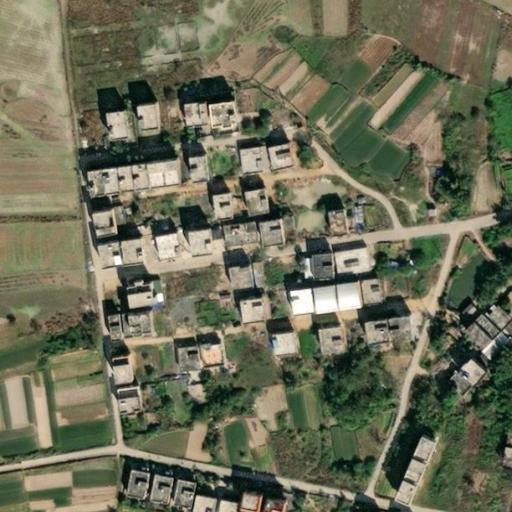building: (456, 321, 491, 355), (327, 249, 362, 277), (218, 221, 253, 248), (448, 357, 479, 387), (142, 158, 173, 187), (476, 303, 505, 332), (207, 102, 236, 130), (232, 145, 261, 173), (263, 141, 291, 169), (310, 285, 338, 313), (147, 229, 173, 259), (118, 276, 146, 303), (176, 101, 204, 127), (282, 287, 308, 315), (91, 237, 117, 264), (191, 342, 217, 369), (110, 384, 134, 413), (166, 477, 189, 507), (466, 312, 492, 338), (112, 233, 137, 260), (180, 225, 205, 252), (310, 325, 335, 352), (334, 282, 359, 309), (207, 190, 228, 221), (142, 472, 165, 500), (104, 108, 126, 137), (238, 187, 262, 213), (254, 218, 278, 244), (488, 290, 512, 316), (115, 467, 137, 495), (360, 319, 384, 344), (381, 316, 405, 341), (439, 372, 464, 396), (171, 345, 194, 371), (308, 252, 330, 279), (87, 209, 111, 233), (221, 263, 245, 287), (246, 254, 264, 286), (491, 336, 512, 363), (234, 294, 258, 317), (125, 162, 145, 189), (184, 153, 204, 180), (355, 279, 375, 306), (96, 166, 115, 194), (132, 101, 152, 127), (265, 331, 287, 354), (111, 164, 129, 191), (122, 310, 144, 332), (105, 353, 124, 378), (317, 208, 335, 234), (82, 168, 99, 195), (183, 377, 204, 398), (186, 493, 209, 512), (237, 492, 258, 512), (261, 498, 286, 512), (296, 254, 310, 278), (98, 312, 111, 337), (495, 320, 512, 339), (211, 498, 233, 512), (404, 457, 422, 474), (388, 490, 407, 506), (392, 480, 411, 496), (414, 432, 432, 448), (410, 443, 428, 458), (400, 468, 418, 482), (501, 305, 512, 326), (500, 451, 512, 470), (469, 349, 484, 363), (485, 330, 499, 344), (503, 330, 512, 347), (503, 437, 512, 452)
